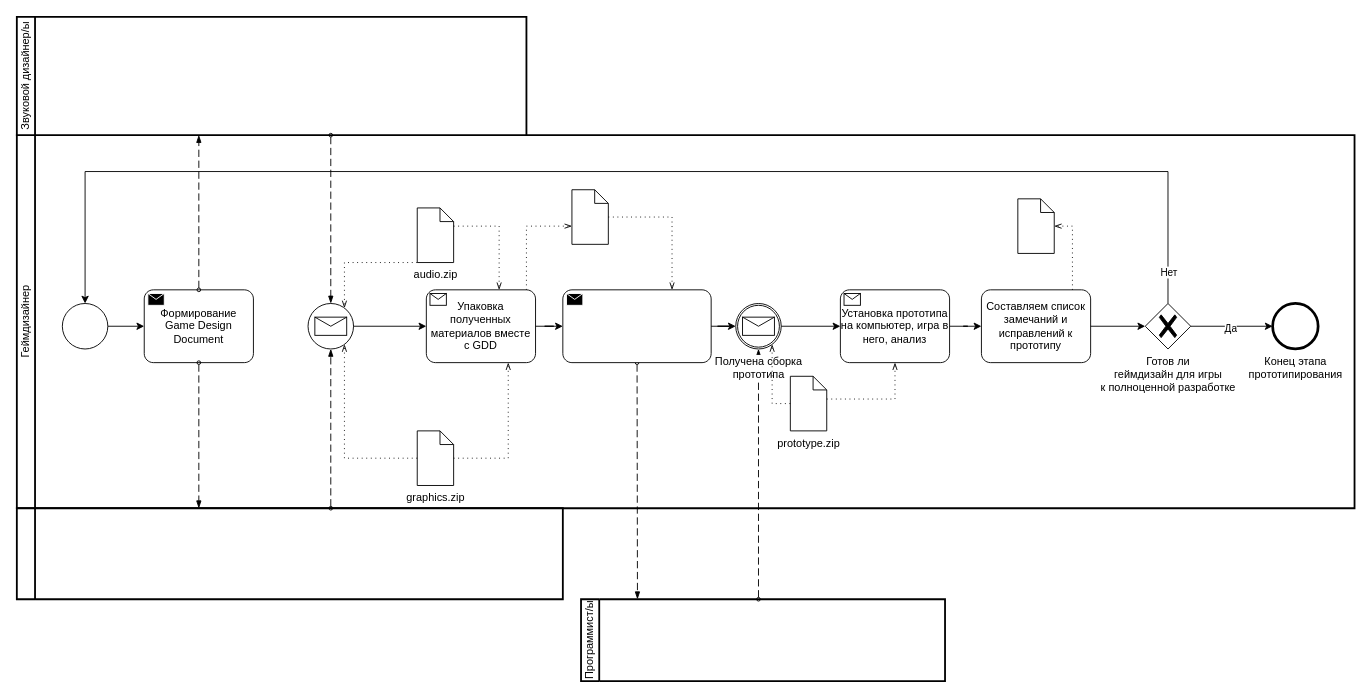
Image size: 1370x697. Some labels were removed from this diagram. The shapes that lost their labels are listed below. From the top down, each one's centre as x and y in pixels, then its label:
At point 589,216: "Prototype files.zip".
At point 1035,225: "Список замечаний.doc".
At point 84,326: "Начало/новый цикл прототипирования".
At point 330,326: "Получены звуки и графические материалы для создания прототипа".
At point 636,326: "Отправить материалы для создания прототипа программистам".
At point 289,553: "Художник/и".
